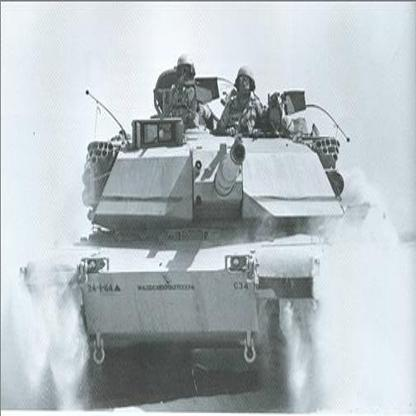Tank: (63, 53, 353, 405)
